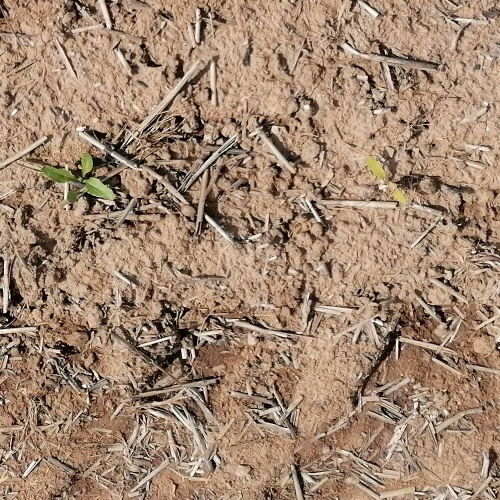beet: (42, 155, 117, 203), (365, 157, 405, 204)
